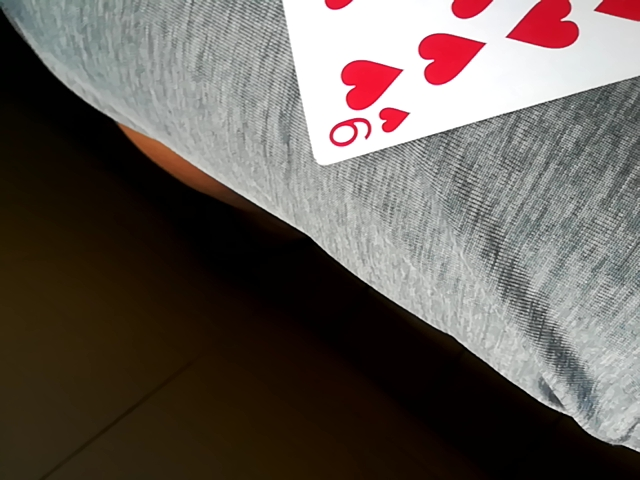hx 9: (272, 0, 633, 166)
